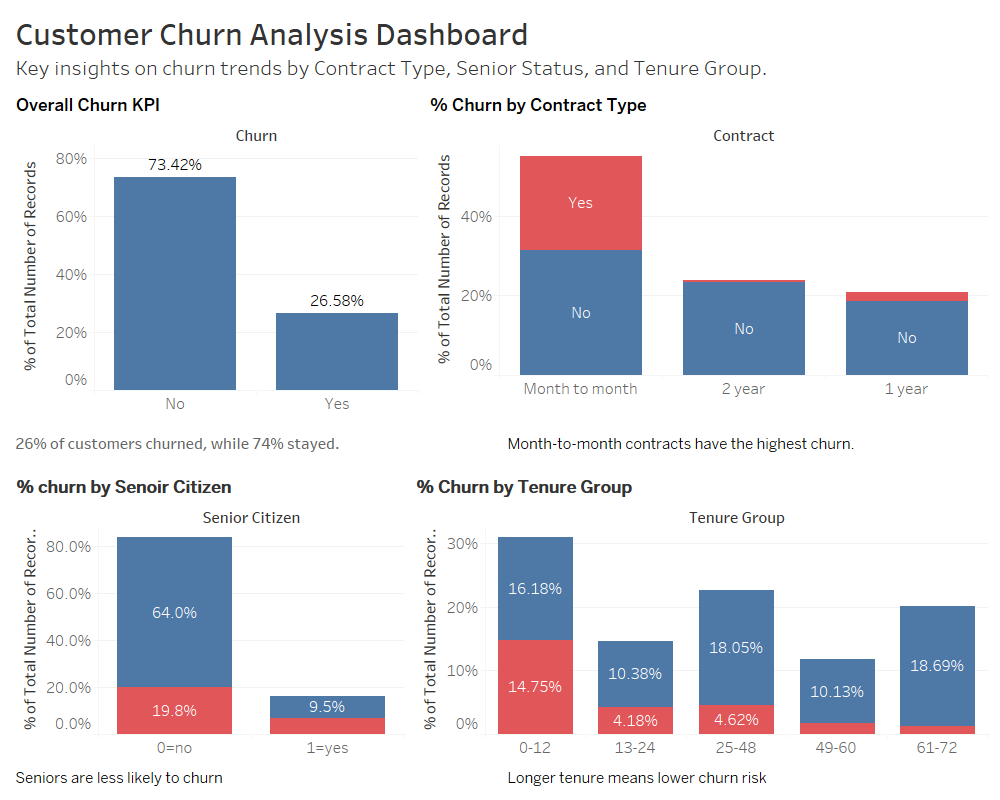

What the dashboard file says about the page in this screenshot:
{"tool":"tableau","page":{"name":"Customer Churn Analysis Dashboard","canvas":[1000,800],"ordinal":0},"visuals":[{"type":"title","box":[8,8,984,77]},{"type":"worksheet","title":"Churn Rate KPI","mark":"Automatic","rows":["Calculation_662029175423250432"],"cols":["Churn"],"box":[8,85,413.6,333.7]},{"type":"worksheet","title":"% Churn by Contract Type","mark":"Automatic","rows":["Calculation_662029175423250432"],"cols":["Contract"],"box":[421.6,85,570.4,333.7]},{"type":"text","box":[8,418.7,492,48.7]},{"type":"text","box":[500,418.7,492,48.7]},{"type":"worksheet","title":"% Churn by Senior Citizen","mark":"Automatic","rows":["Calculation_662029175423250432"],"cols":["SeniorCitizen"],"box":[8,467.3,400,295.8]},{"type":"worksheet","title":"% Churn by Tenure Group","mark":"Automatic","rows":["Calculation_662029175423250432"],"cols":["tenure_group"],"box":[408,467.3,584,295.8]},{"type":"text","box":[8,763.1,492,28.9]},{"type":"text","box":[500,763.1,492,28.9]}]}

Visuals, with their boxes in screenshot pixels (x1, y1, x2, y2), scaled from the page's 1000x800 canvas onto the 1000x800 screenshot:
title: x1=8 y1=8 x2=992 y2=85
"Churn Rate KPI" worksheet: x1=8 y1=85 x2=422 y2=419
"% Churn by Contract Type" worksheet: x1=422 y1=85 x2=992 y2=419
text: x1=8 y1=419 x2=500 y2=467
text: x1=500 y1=419 x2=992 y2=467
"% Churn by Senior Citizen" worksheet: x1=8 y1=467 x2=408 y2=763
"% Churn by Tenure Group" worksheet: x1=408 y1=467 x2=992 y2=763
text: x1=8 y1=763 x2=500 y2=792
text: x1=500 y1=763 x2=992 y2=792
